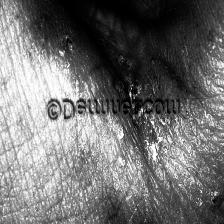Toxin: (134, 120, 162, 160)
